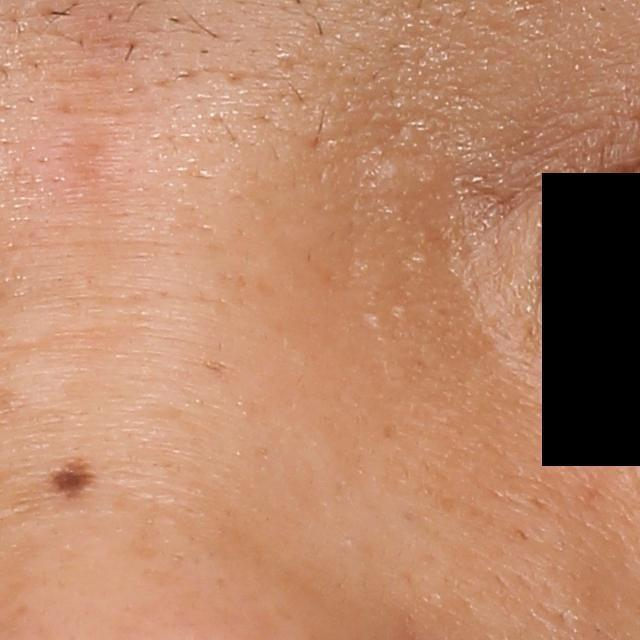nevus: (45, 450, 93, 500)
